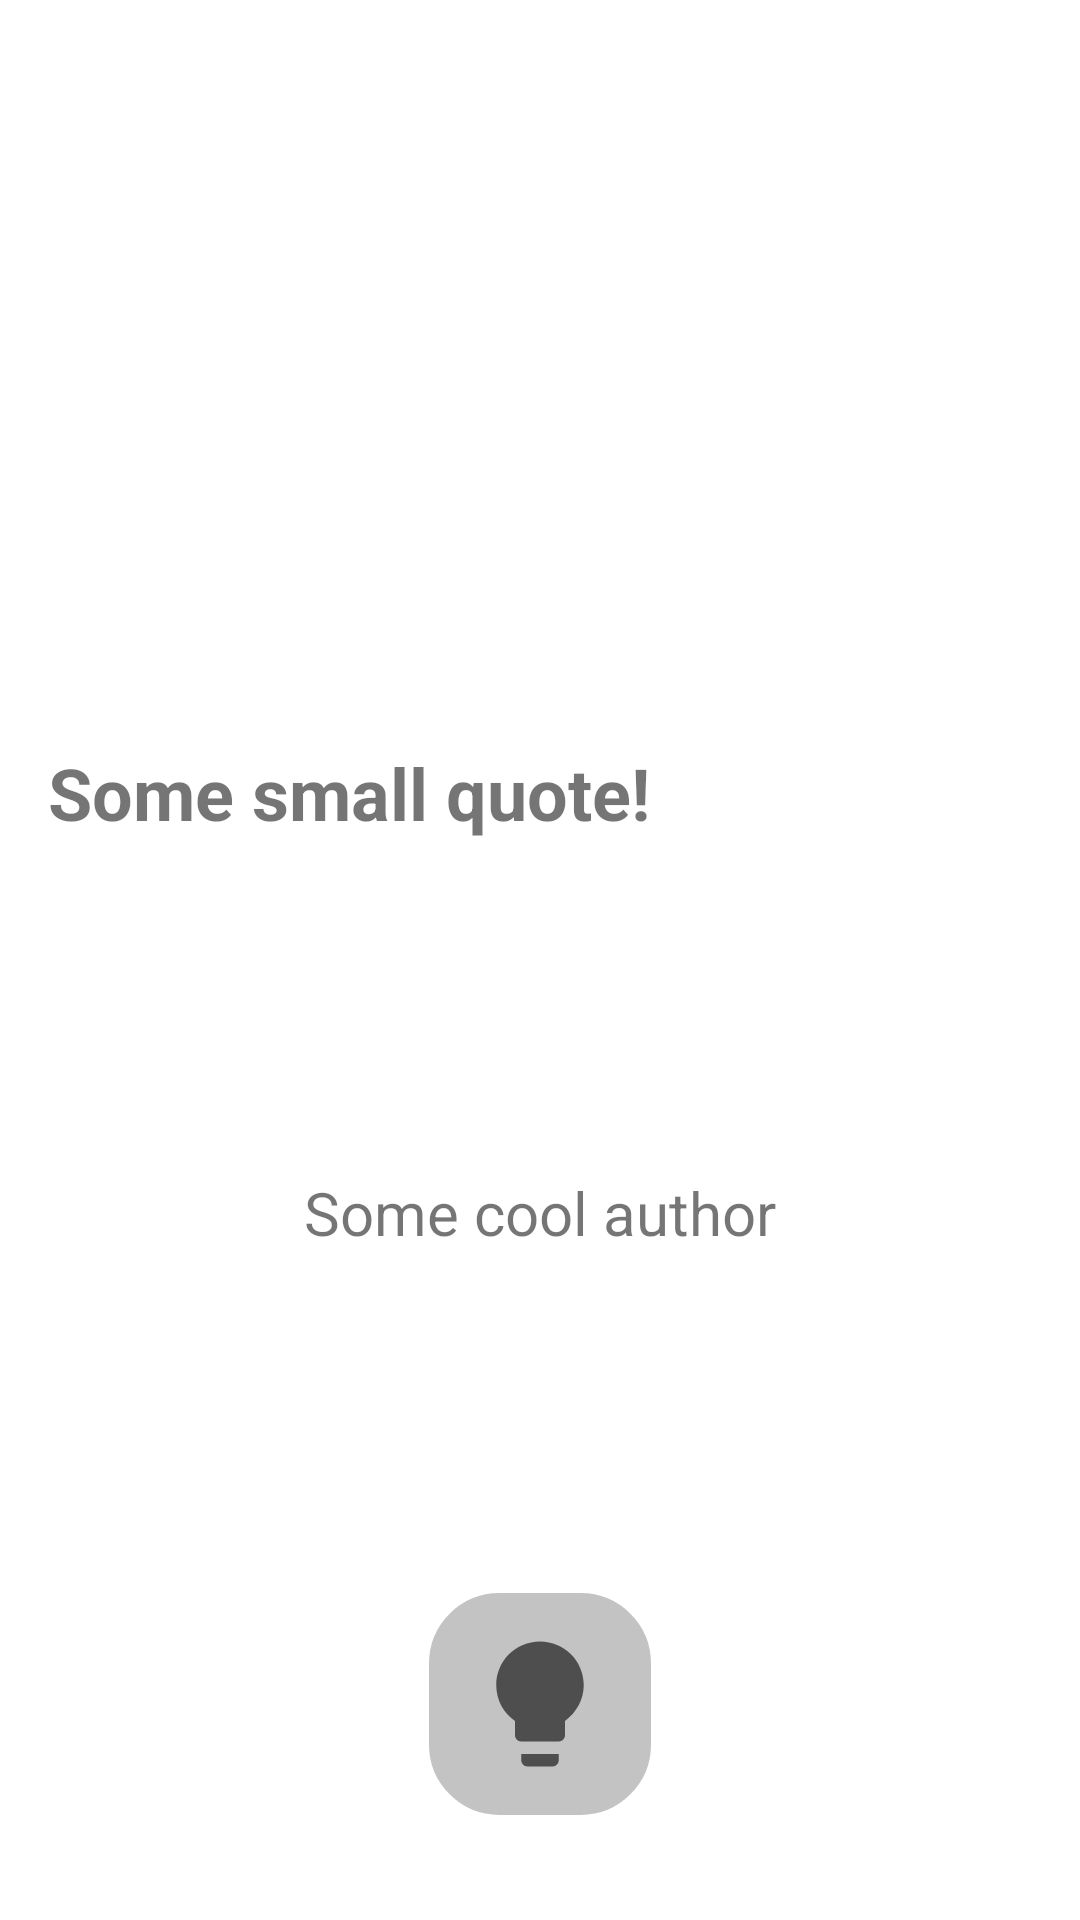

Where to tap for icons on this 1080×1920 app screen, as (x,y):
lightbulb: (540,1704)
